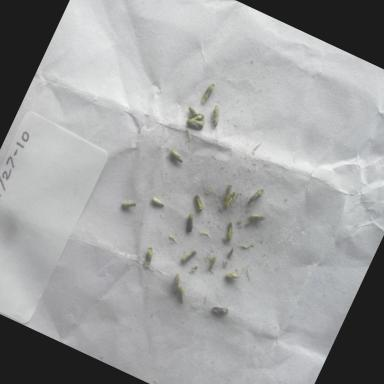pbw: (242, 182, 267, 212), (196, 76, 220, 106), (184, 190, 210, 216), (136, 242, 159, 271), (176, 243, 200, 270), (178, 210, 201, 238), (206, 103, 228, 131), (243, 208, 268, 232), (220, 186, 241, 214), (184, 106, 207, 129), (220, 266, 244, 288), (147, 192, 171, 214), (164, 146, 188, 168), (220, 219, 241, 244), (166, 272, 186, 298), (203, 254, 224, 278), (182, 116, 207, 136), (118, 194, 140, 216), (172, 282, 192, 306), (209, 300, 232, 320), (183, 100, 203, 122), (220, 181, 236, 203)
